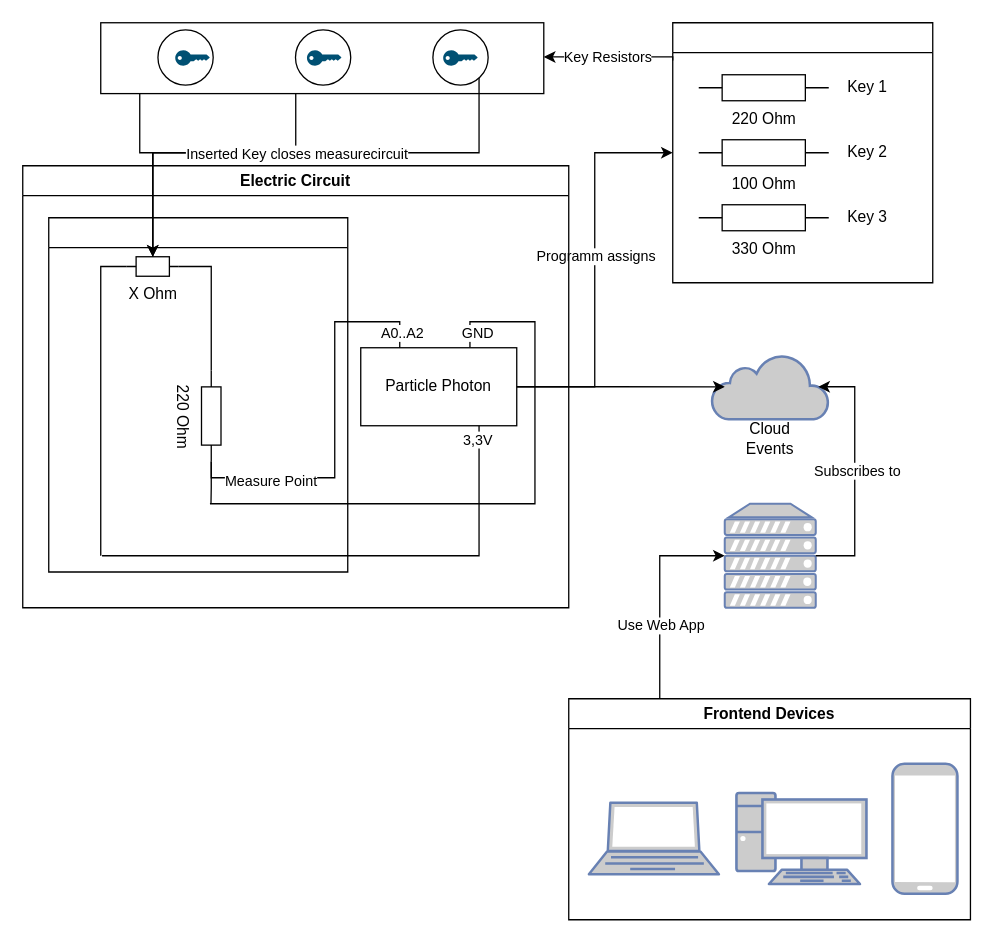
Image size: 993x942. Some labels were removed from this diagram. The centre of each missing label's shape, as x and y in pixels:
3x Key Measure: the point at 197,394
Key Resistors Map: the point at 802,152
Web Server: the point at 769,555
